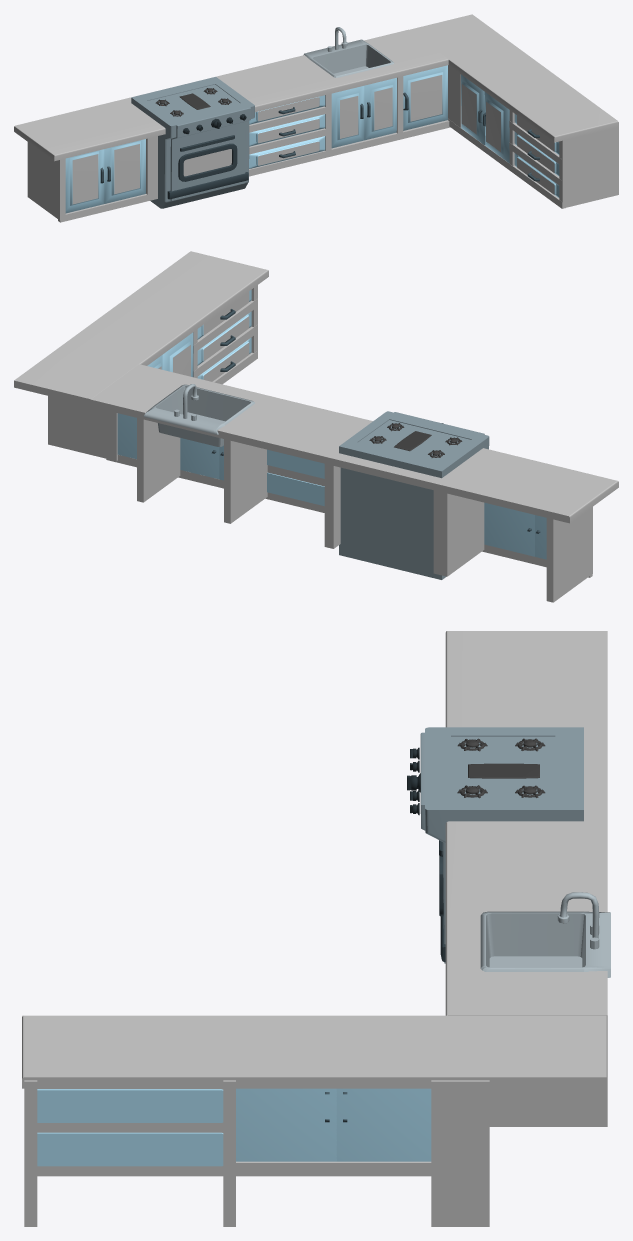
The model's file is Kitchen_Cabinet_02_Collider.fbx.
3 renders of one model, top to bottom at view 1: azimuth 30°, elevation 25°; view 2: azimuth 150°, elevation 25°; view 3: azimuth 270°, elevation 25°, orthographic. The views are drawn at different scales.
Visible parts, largest first — view 1: Kitchen_Cabinet_02_Collider; view 2: Kitchen_Cabinet_02_Collider; view 3: Kitchen_Cabinet_02_Collider.
Part boxes in pixels (<box>): Kitchen_Cabinet_02_Collider: <box>14,14,618,222</box>; Kitchen_Cabinet_02_Collider: <box>14,251,618,602</box>; Kitchen_Cabinet_02_Collider: <box>22,631,610,1226</box>.
Size of the model in its own units: 1101 by 249 by 611.
